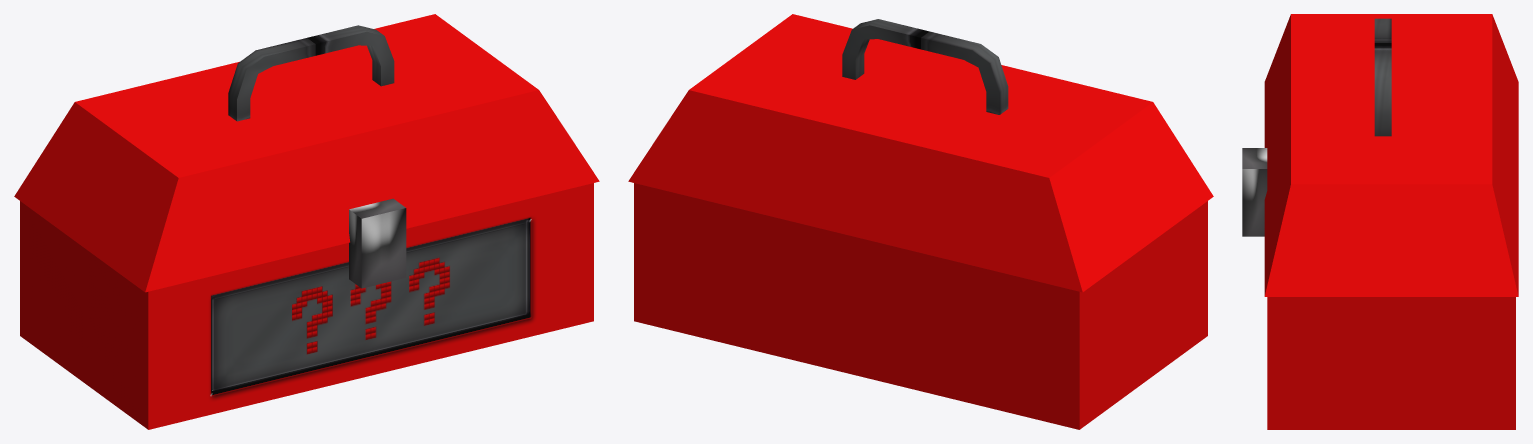
Rendered from ItemBox.FBX.
3 views of the same model, side by side, from view 1: azimuth 30°, elevation 25°; view 2: azimuth 150°, elevation 25°; view 3: azimuth 270°, elevation 25° (orthographic). The views are drawn at different scales.
Parts seen in each view (by area): view 1: ItemBox, Tube001, Box001; view 2: ItemBox, Tube001; view 3: ItemBox, Box001, Tube001.
Part boxes in pixels (x1=…): ItemBox: x1=14, y1=14, x2=599, y2=429; Tube001: x1=228, y1=25, x2=394, y2=121; Box001: x1=349, y1=198, x2=406, y2=288; ItemBox: x1=628, y1=14, x2=1213, y2=429; Tube001: x1=842, y1=19, x2=1008, y2=114; ItemBox: x1=1264, y1=14, x2=1518, y2=429; Box001: x1=1242, y1=148, x2=1267, y2=236; Tube001: x1=1374, y1=18, x2=1391, y2=136.
Bounding box in the file's own units: 20.45 × 12.5 × 11.1.
Materials: 1 (1 with a texture image).
